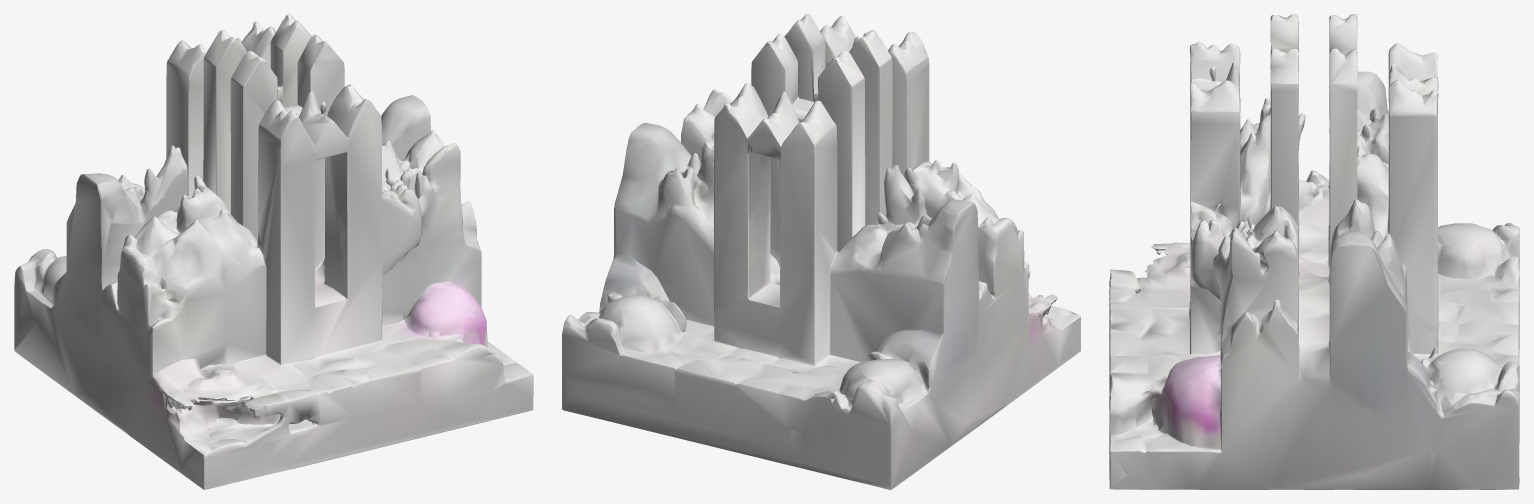
Rendered from bifrost-approach-generated-2026-05-17T17-48-49-995Z.low.glb.
3 renders of one model, left to right at view 1: azimuth 30°, elevation 25°; view 2: azimuth 150°, elevation 25°; view 3: azimuth 270°, elevation 25°, orthographic. The views are drawn at different scales.
Parts seen in each view (by area): view 1: temp_mesh.ply; view 2: temp_mesh.ply; view 3: temp_mesh.ply.
Boxes of the visible parts, x1,y1,x2,y2 form: temp_mesh.ply: (14, 14, 533, 489); temp_mesh.ply: (562, 14, 1080, 489); temp_mesh.ply: (1109, 14, 1519, 489).
Bounding box in the file's own units: 1.97 × 1.97 × 1.97.
1 material, 1 textured.
